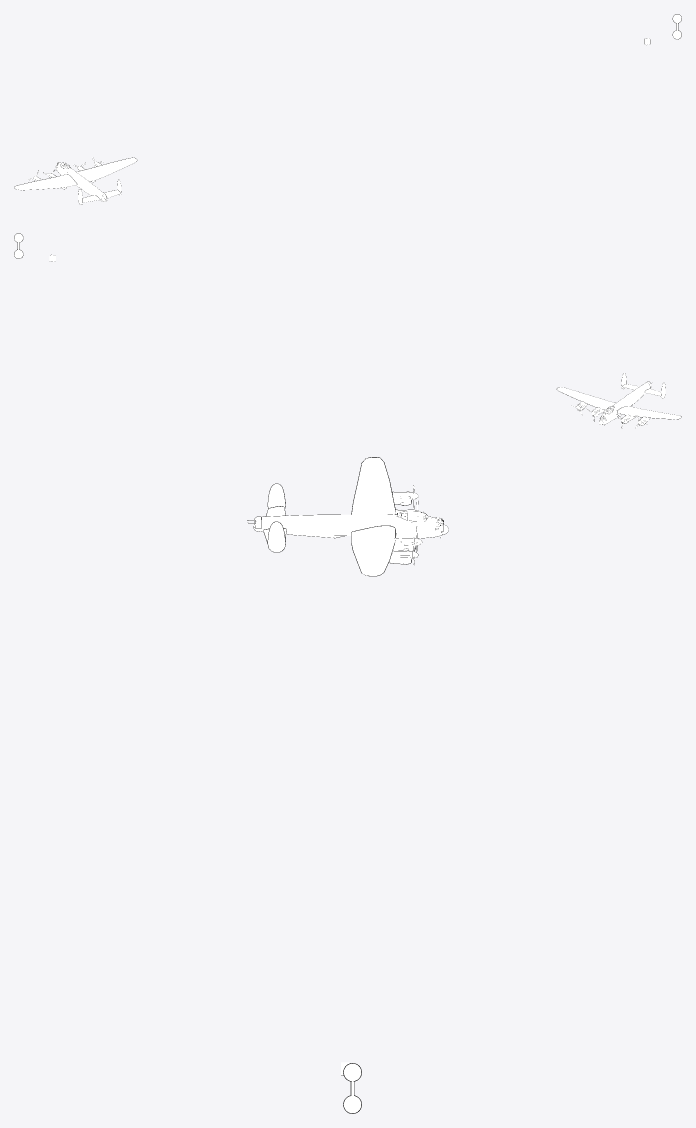
The picture shows the model from 3 angles, top to bottom: view 1: azimuth 30°, elevation 25°; view 2: azimuth 150°, elevation 25°; view 3: azimuth 270°, elevation 25°; orthographic projection. The views are drawn at different scales.
Parts seen in each view (by area): view 1: Object081; view 2: Object081; view 3: Object081.
Part boxes in pixels (left/top/right/bottom): Object081: left=14, top=14, right=681, bottom=204; Object081: left=14, top=233, right=681, bottom=428; Object081: left=247, top=457, right=448, bottom=1113.
Size of the model in its own units: 169 by 7.66 by 22.37.
Materials: 4 (1 with a texture image).
